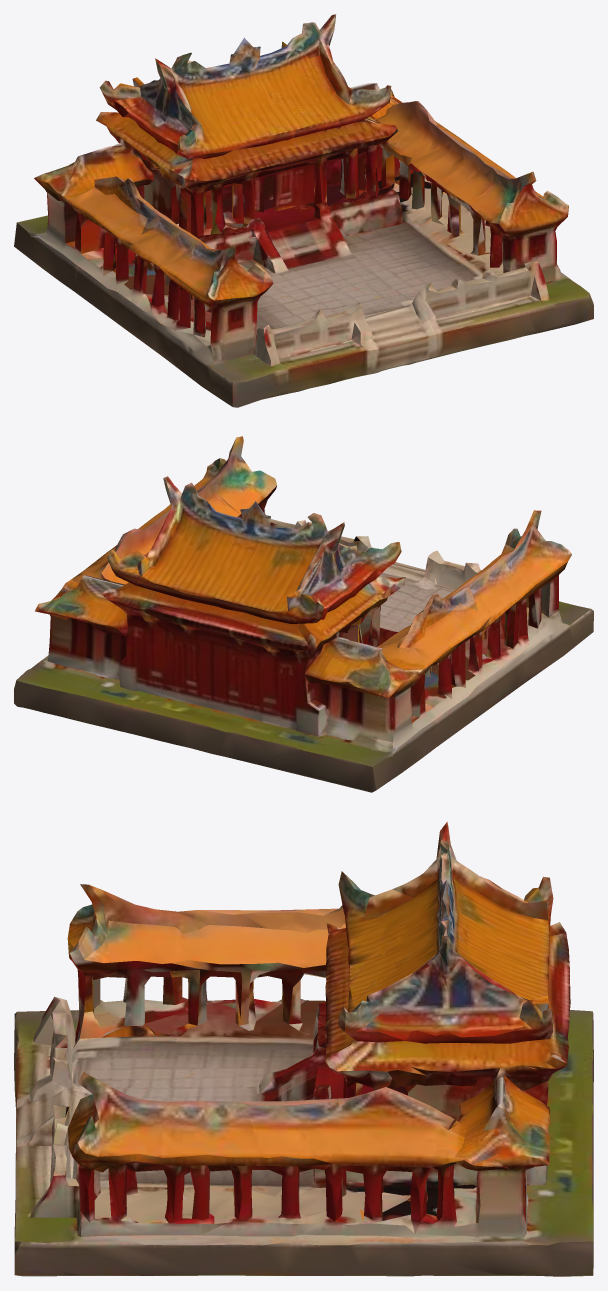
The model's file is taipei-confucius-temple.glb.
3 renders of one model, top to bottom at view 1: azimuth 30°, elevation 25°; view 2: azimuth 150°, elevation 25°; view 3: azimuth 270°, elevation 25°, orthographic. The views are drawn at different scales.
Visible parts, largest first — view 1: logan-textured.obj; view 2: logan-textured.obj; view 3: logan-textured.obj.
Part boxes in pixels (left/top/right/bottom): logan-textured.obj: left=14, top=14, right=593, bottom=407; logan-textured.obj: left=14, top=436, right=593, bottom=792; logan-textured.obj: left=14, top=821, right=593, bottom=1276.
Size of the model in its own units: 0.9562 by 0.533 by 1.
Materials: 1 (1 with a texture image).
